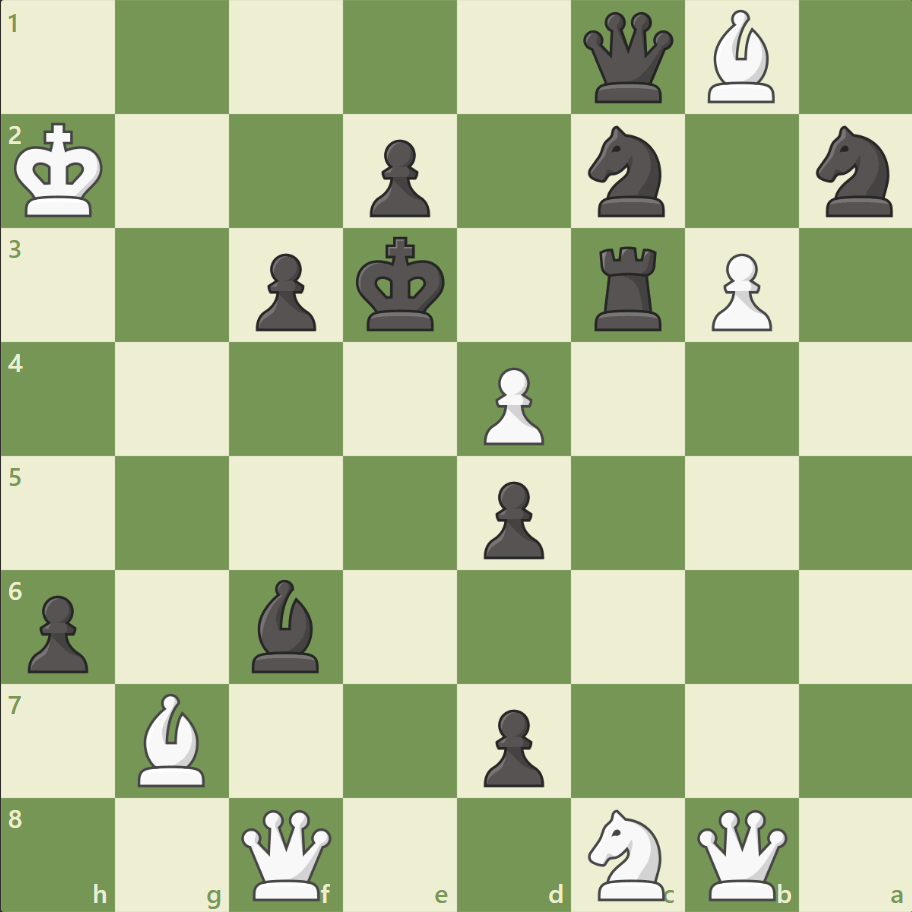B: (131, 687, 215, 790), (698, 6, 782, 109)
K: (11, 117, 111, 225)
N: (579, 802, 676, 904)
P: (474, 359, 549, 450), (701, 246, 776, 337)
Q: (691, 804, 790, 903), (237, 804, 336, 903)
b: (244, 574, 328, 676)
k: (351, 231, 451, 339)
n: (806, 121, 903, 223), (579, 121, 676, 223)
p: (474, 700, 549, 791), (20, 586, 95, 677), (474, 473, 549, 564), (247, 246, 322, 337), (361, 132, 435, 223)
q: (578, 9, 677, 108)
r: (587, 239, 670, 336)
